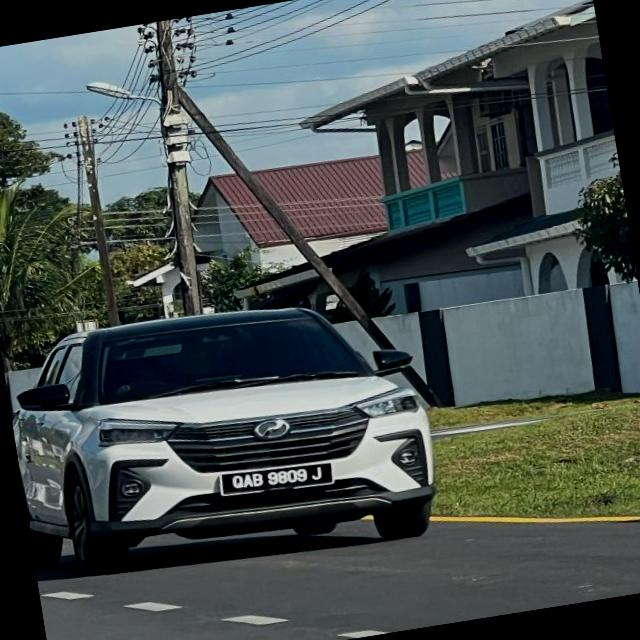PeroduaAtiva: (0, 276, 449, 596)
